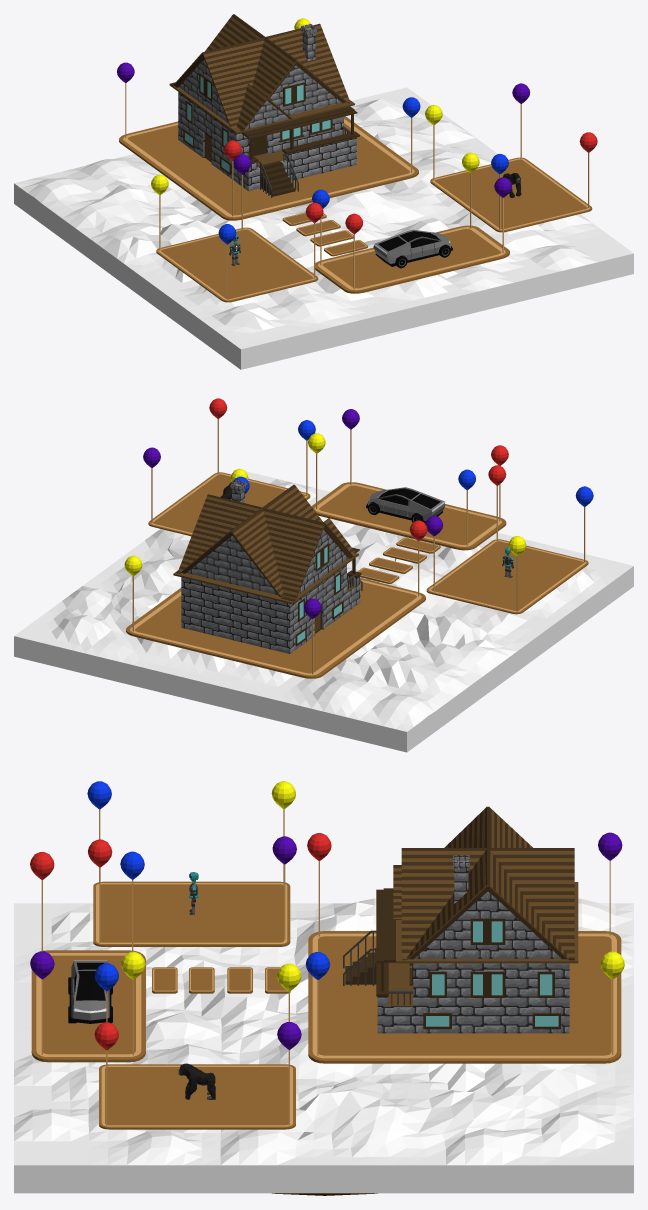
The picture shows the model from 3 angles, top to bottom: view 1: azimuth 30°, elevation 25°; view 2: azimuth 150°, elevation 25°; view 3: azimuth 270°, elevation 25°; orthographic projection. The views are drawn at different scales.
Visible parts, largest first — view 1: Cube.013, Cube.586, VEHICLES_CYBERTRUCK; view 2: Cube.013, Cube.586, VEHICLES_CYBERTRUCK; view 3: Cube.013, Cube.586, VEHICLES_CYBERTRUCK, ANIMAL_GORILA.
Part boxes in pixels (x1,y1,x2,y2): Cube.013: (14, 18, 633, 369); Cube.586: (169, 14, 359, 197); VEHICLES_CYBERTRUCK: (373, 229, 452, 268); Cube.013: (14, 398, 633, 752); Cube.586: (173, 480, 362, 653); VEHICLES_CYBERTRUCK: (366, 487, 445, 523); Cube.013: (14, 781, 633, 1193); Cube.586: (343, 806, 578, 1033); VEHICLES_CYBERTRUCK: (68, 960, 112, 1023); ANIMAL_GORILA: (178, 1063, 215, 1099).
Bounding box in the file's own units: 4000 × 1763 × 4000.
Materials: 31 (2 with a texture image).
